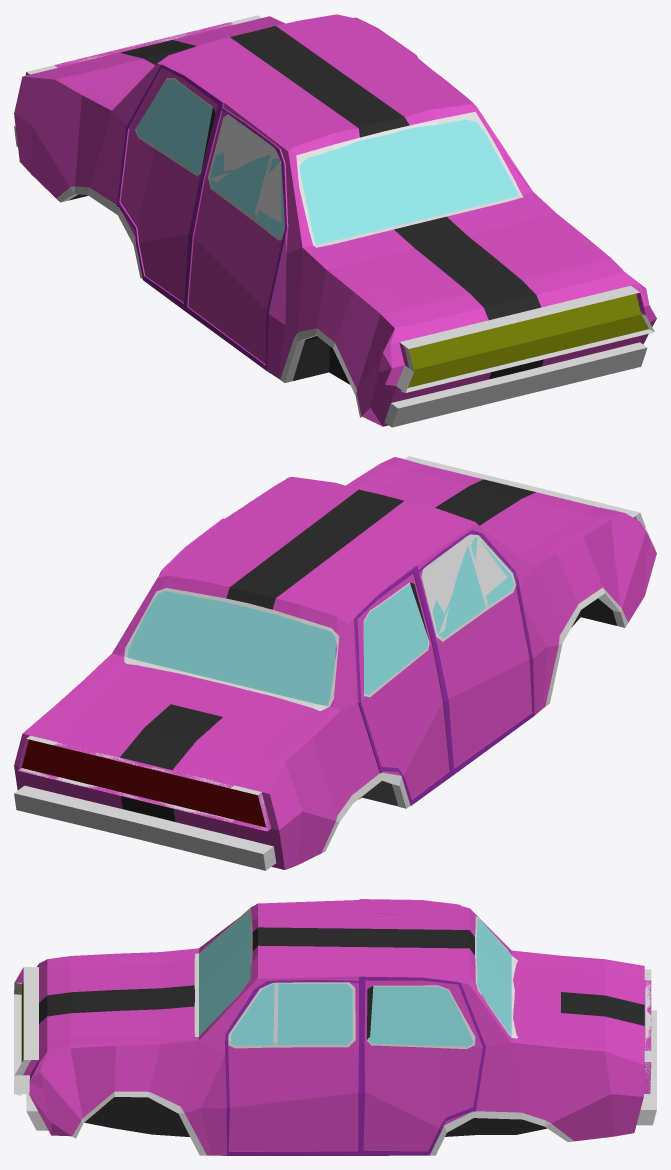
Rendered from jiga.fbx.
The picture shows the model from 3 angles, top to bottom: view 1: azimuth 30°, elevation 25°; view 2: azimuth 150°, elevation 25°; view 3: azimuth 270°, elevation 25°; orthographic projection. The views are drawn at different scales.
Parts seen in each view (by area): view 1: Куб, OKNA; view 2: Куб, OKNA; view 3: Куб, OKNA.
Boxes of the visible parts, x1,y1,x2,y2 form: Куб: (14,14,656,427); OKNA: (136,79,518,244); Куб: (14,456,656,870); OKNA: (127,537,513,705); Куб: (14,899,656,1155); OKNA: (199,914,511,1046).
Size of the model in its own units: 92.52 by 65.5 by 229.
